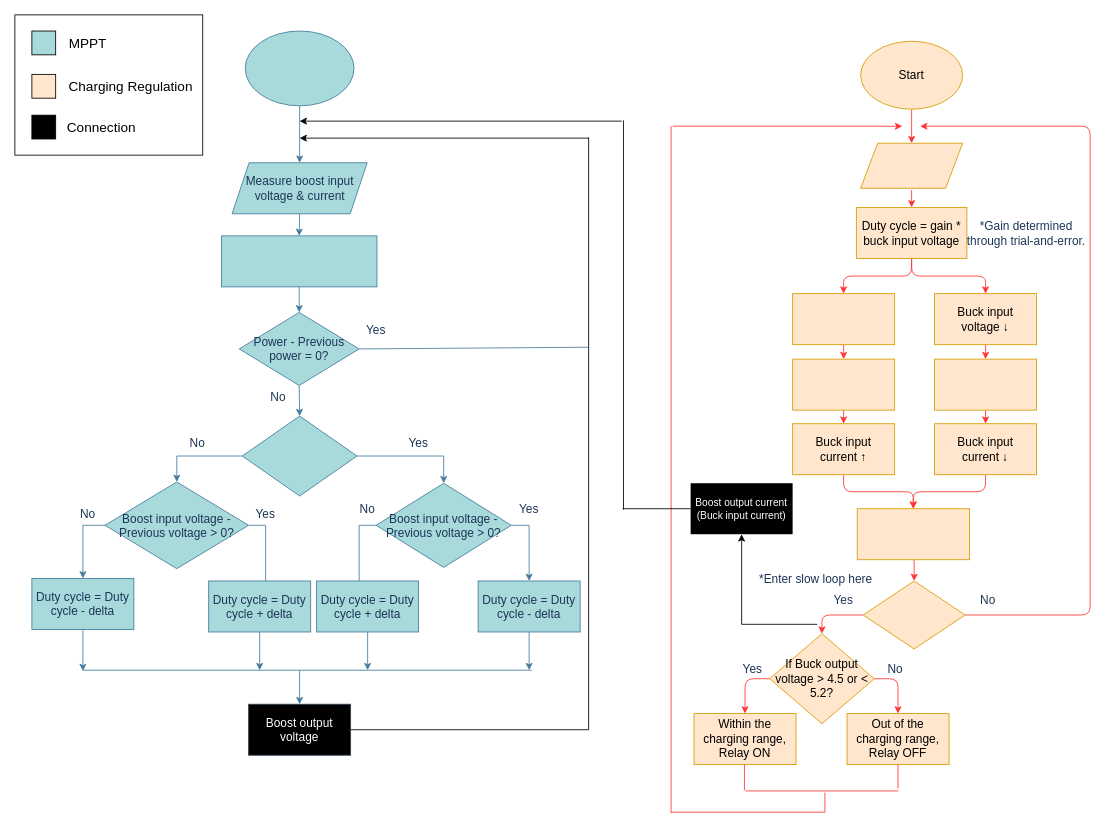
Some shapes in this 1112 by 829 pixel diagram are drawn without their labels. The box of each missing label's shape, as (x1, y1, x2, y2) in pixels:
Buck input voltage ↑: (792, 293, 895, 345)
Calculate Power Power = boost input voltage * boost input current: (221, 235, 377, 287)
Count = Count + 1: (856, 508, 969, 560)
Duty cycle ↑: (792, 358, 895, 410)
Duty cycle ↓: (934, 358, 1037, 410)
If Count = 1000?: (862, 580, 965, 649)
Measure Buck input voltage: (860, 142, 963, 188)
Power - Previous Power > 0?: (241, 415, 357, 496)
Start (When Count = 1000): (244, 30, 354, 106)
